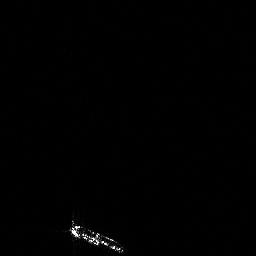ship: (69, 220, 125, 252)
